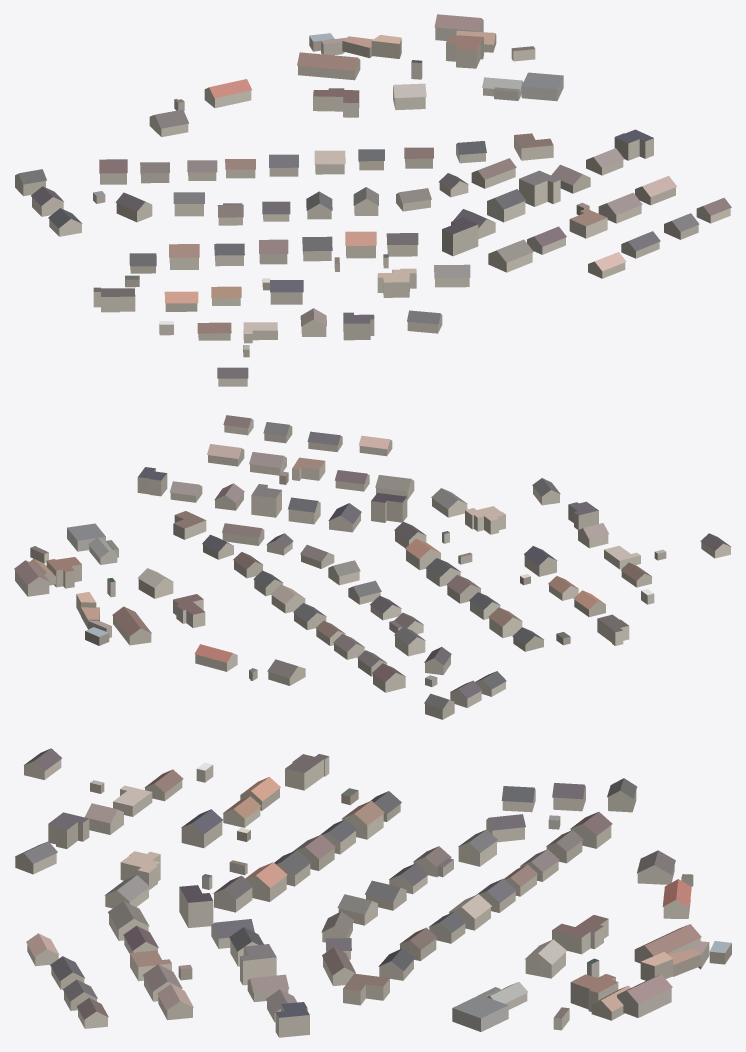
3 renders of one model, top to bottom at view 1: azimuth 30°, elevation 25°; view 2: azimuth 150°, elevation 25°; view 3: azimuth 270°, elevation 25°, orthographic. The views are drawn at different scales.
Visible parts, largest first — view 1: tuile; view 2: tuile; view 3: tuile.
Part boxes in pixels (box(x1,y1,x2,y2)): tuile: box(15, 14, 731, 386); tuile: box(14, 415, 730, 719); tuile: box(15, 748, 731, 1037).
Bounding box in the file's own units: 260 × 29.24 × 259.
